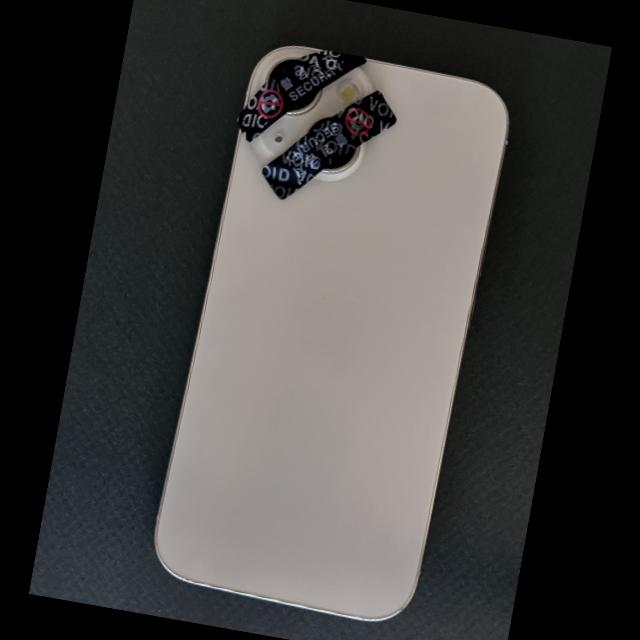lens: (325, 147, 360, 172), (266, 58, 299, 81)
phone: (153, 44, 511, 622)
sticker: (261, 90, 397, 200), (235, 48, 367, 142)
